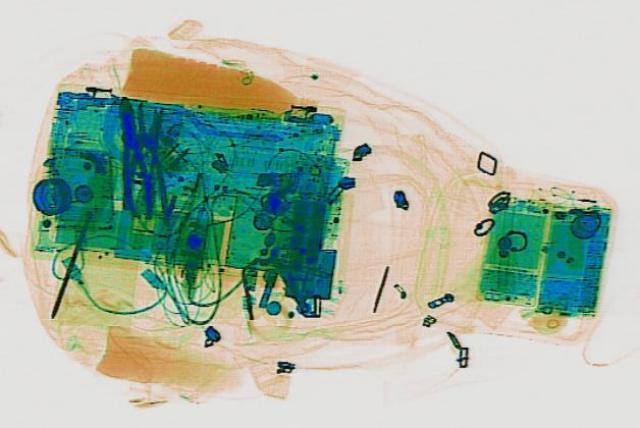Pliers: (108, 94, 156, 217)
